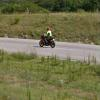Motorcycle: (37, 26, 57, 51)
